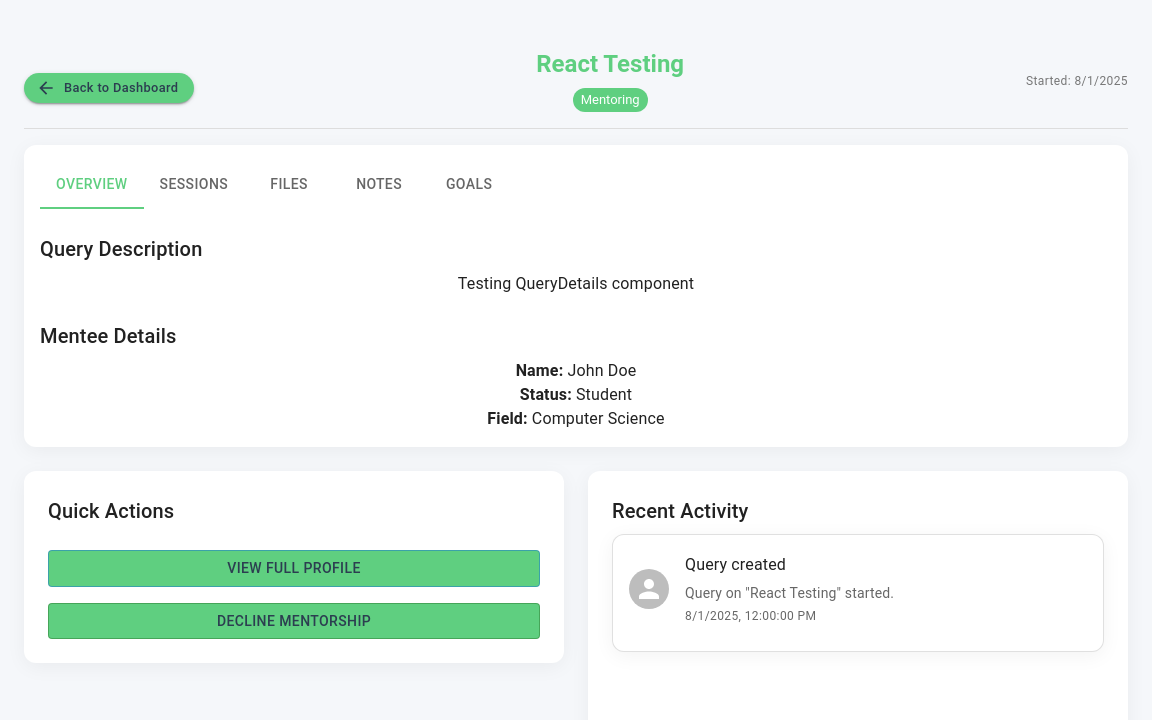
Test: QueryDetails Page › can switch to Sessions tab and render sessions
Expected: the heading "Query Description" is shown, [40,237,202,261]
Click the Sessions tab
Click the tab "Sessions".
click(194, 185)  # box [144,161,244,209]
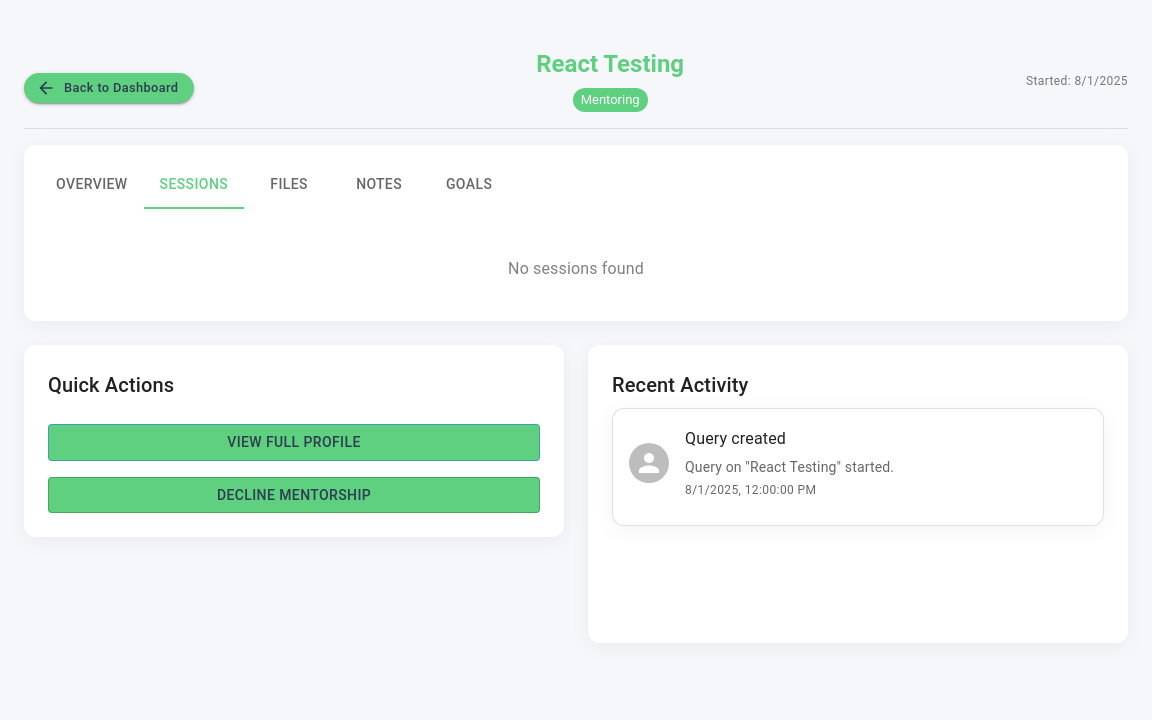
Expected: the text "No sessions found" is shown, [508,259,644,278]
